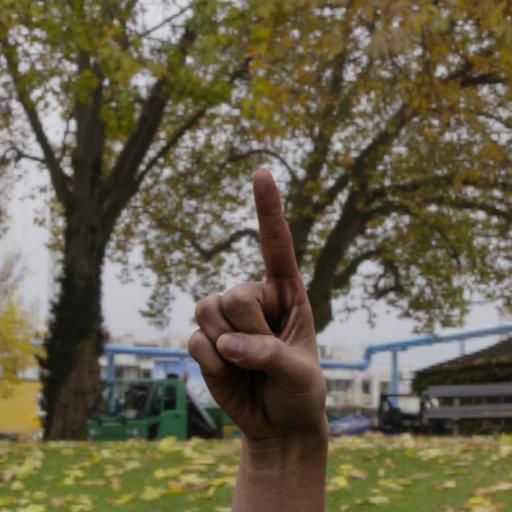Z: (157, 153, 346, 487)
